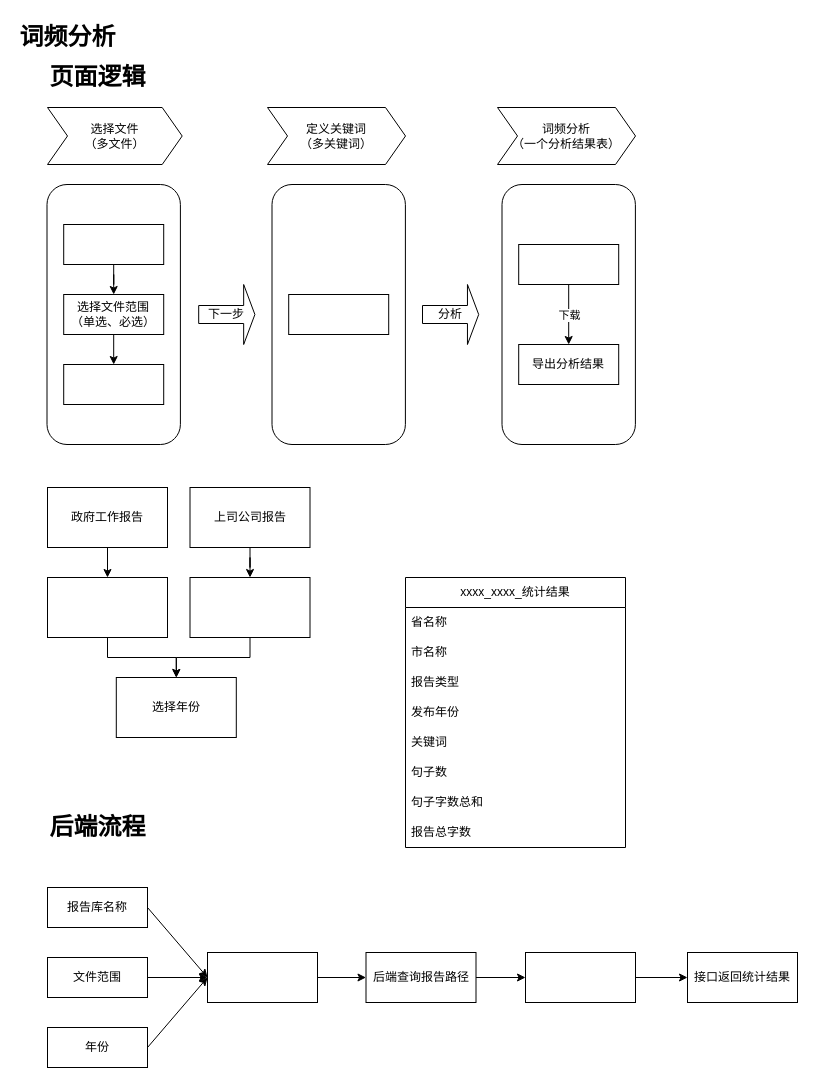
The diagram is 815 pixels wide and 1085 high, and some of its shapes have lost their labels. The shapes that lost their labels are listed below. From the top down, each one's centre as x and y in pixels, then its label:
At pixel 113 244: "选择报告库 （单选、必选）".
At pixel 568 264: "展示分析结果".
At pixel 338 314: "输入关键词 （多选、自定义）".
At pixel 113 384: "选择年份 （单选、必选）".
At pixel 107 607: "政府报告类型列表".
At pixel 249 607: "行业列表".
At pixel 262 977: "前端获取参数".
At pixel 580 977: "后端调用统计接口".
